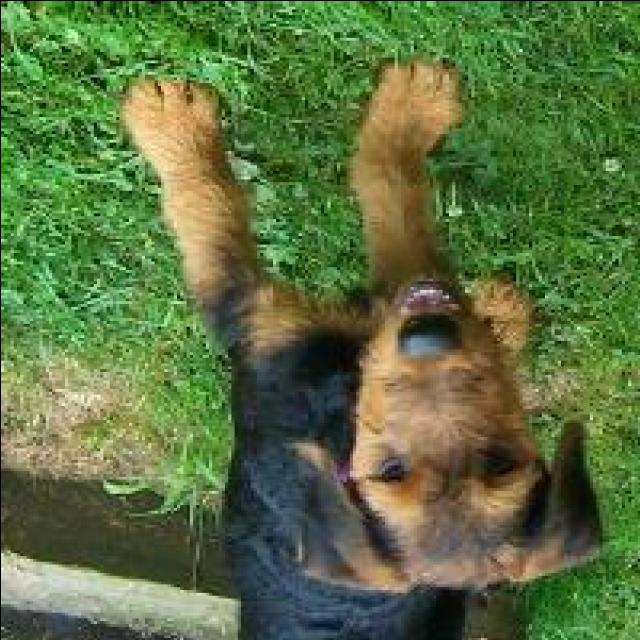airedale: (109, 57, 602, 637)
